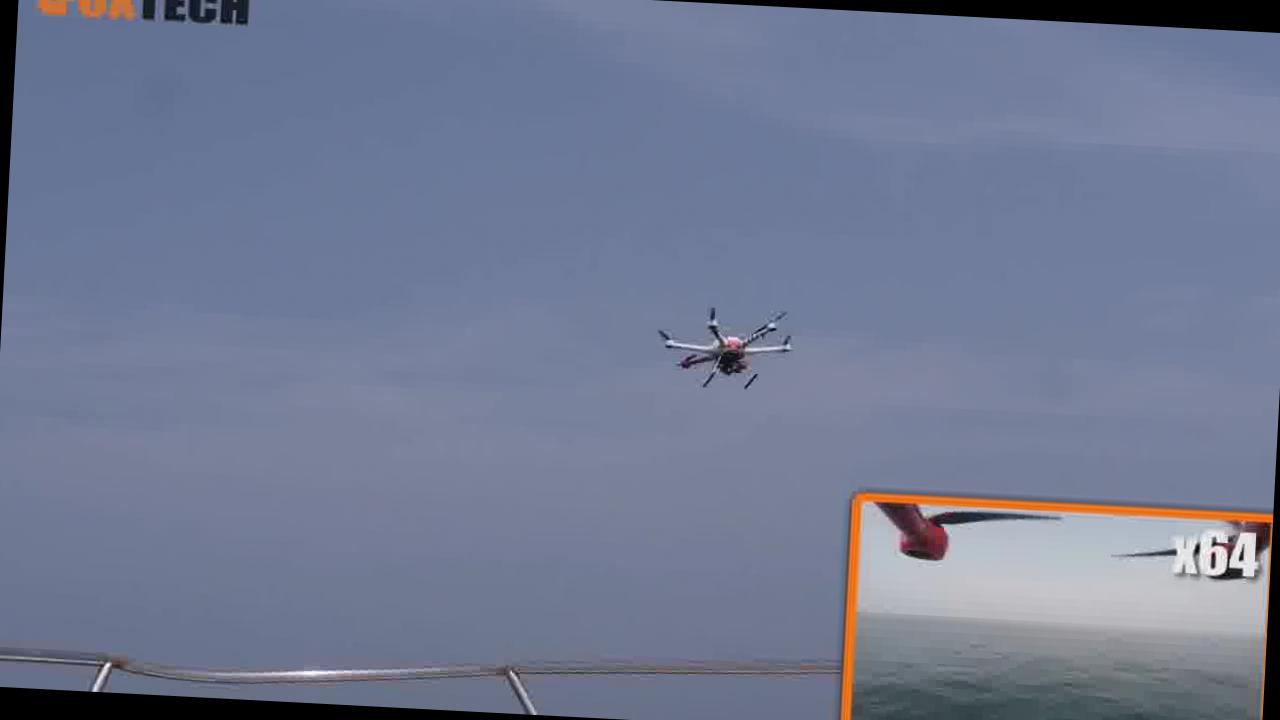drone: (649, 280, 818, 400)
